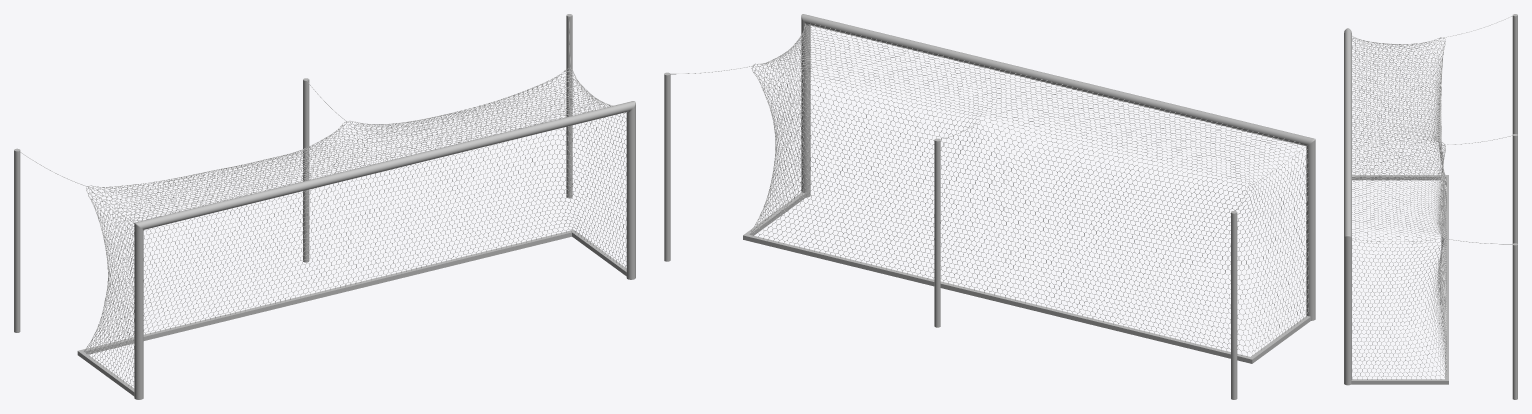
The model's file is goal.glb.
The picture shows the model from 3 angles, left to right: view 1: azimuth 30°, elevation 25°; view 2: azimuth 150°, elevation 25°; view 3: azimuth 270°, elevation 25°; orthographic projection. The views are drawn at different scales.
Visible parts, largest first — view 1: NGon002, Rectangle001, Shape001_post_0, Cylinder003, Cylinder001, Cylinder002; view 2: NGon002, Rectangle001, Shape001_post_0, Cylinder002, Cylinder001, Cylinder003; view 3: NGon002, Rectangle001, Shape001_post_0, Cylinder001, Cylinder003, Cylinder002.
Boxes of the visible parts, x1,y1,x2,y2 form: NGon002: [83, 68, 626, 388]; Rectangle001: [134, 101, 635, 399]; Shape001_post_0: [77, 230, 626, 396]; Cylinder003: [14, 148, 20, 332]; Cylinder001: [566, 14, 572, 198]; Cylinder002: [303, 78, 309, 262]; NGon002: [749, 23, 1308, 356]; Rectangle001: [801, 14, 1315, 320]; Shape001_post_0: [743, 192, 1310, 363]; Cylinder002: [934, 138, 940, 327]; Cylinder001: [664, 72, 670, 261]; Cylinder003: [1231, 211, 1237, 399]; NGon002: [1352, 36, 1446, 379]; Rectangle001: [1344, 28, 1351, 385]; Shape001_post_0: [1351, 175, 1448, 384]; Cylinder001: [1512, 243, 1517, 399]; Cylinder003: [1512, 14, 1517, 134]; Cylinder002: [1512, 134, 1517, 243].
Bounding box in the file's own units: 8.29 × 2.59 × 2.63.
2 materials, 1 textured.
